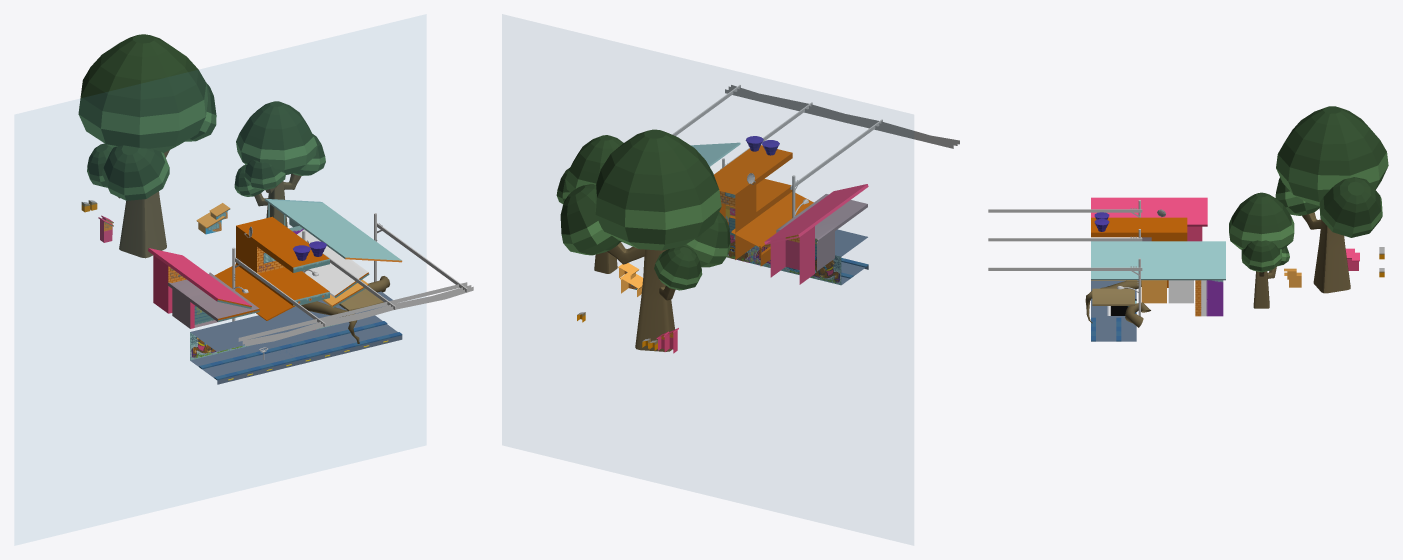
The model's file is Fase 1 (J1.1).fbx.
3 renders of one model, left to right at view 1: azimuth 30°, elevation 25°; view 2: azimuth 150°, elevation 25°; view 3: azimuth 270°, elevation 25°, orthographic. The views are drawn at different scales.
Parts seen in each view (by area): view 1: pSphere1 (×2), Rua, Brecho_P4, Casa_Aberta1, arvore_circular1_pCube11, casa_3, Muro_sUperior, Bar, pCube9, Brecho_P2, casa_2, pSphere13 (+5 smaller); view 2: pSphere1 (×2), Brecho_P4, casa_3, arvore_circular1_pCube13, pCube9, arvore_circular1_pCube12, Bar, Brecho_P2, arvore_circular1_pCube11, Muro1, poste:poste, Casa_Aberta1 (+1 smaller); view 3: pSphere1 (×2), Casa_Aberta1, arvore_circular1_pCube13, casa_3, pCube9 (×2), Brecho_P4, Rua, pSphere12, arvore_circular1_pCube11, poste2, pCube8, Muro_sUperior (+4 smaller).
Part boxes in pixels (<box>): pSphere1 (×2): <box>78,34,317,174</box>; Rua: <box>190,315,402,384</box>; Brecho_P4: <box>236,216,329,306</box>; Casa_Aberta1: <box>265,199,402,262</box>; arvore_circular1_pCube11: <box>102,145,169,200</box>; casa_3: <box>148,248,251,313</box>; Muro_sUperior: <box>190,291,392,351</box>; Bar: <box>168,272,259,328</box>; pCube9: <box>119,191,166,258</box>; Brecho_P2: <box>214,264,295,320</box>; casa_2: <box>297,229,369,297</box>; pSphere13: <box>244,159,285,190</box>; pSphere1 (×2): <box>565,129,721,250</box>; Brecho_P4: <box>714,145,792,259</box>; casa_3: <box>764,184,868,284</box>; arvore_circular1_pCube13: <box>560,184,644,264</box>; pCube9: <box>635,249,674,351</box>; arvore_circular1_pCube12: <box>654,246,702,300</box>; Bar: <box>776,194,867,271</box>; Brecho_P2: <box>731,192,813,247</box>; arvore_circular1_pCube11: <box>683,212,730,267</box>; Muro1: <box>727,234,841,285</box>; poste:poste: <box>790,119,882,217</box>; Casa_Aberta1: <box>691,142,740,166</box>; pSphere1 (×2): <box>1229,106,1388,249</box>; Casa_Aberta1: <box>1091,241,1225,316</box>; arvore_circular1_pCube13: <box>1319,177,1382,237</box>; casa_3: <box>1091,197,1207,241</box>; pCube9 (×2): <box>1253,220,1350,308</box>; Brecho_P4: <box>1091,217,1187,287</box>; Rua: <box>1091,317,1136,341</box>; pSphere12: <box>1241,240,1281,272</box>; arvore_circular1_pCube11: <box>1275,177,1321,229</box>; poste2: <box>988,258,1142,316</box>; pCube8: <box>1092,288,1134,305</box>; Muro_sUperior: <box>1091,280,1136,317</box>.
Size of the model in its own units: 3939 by 3939 by 3939.
